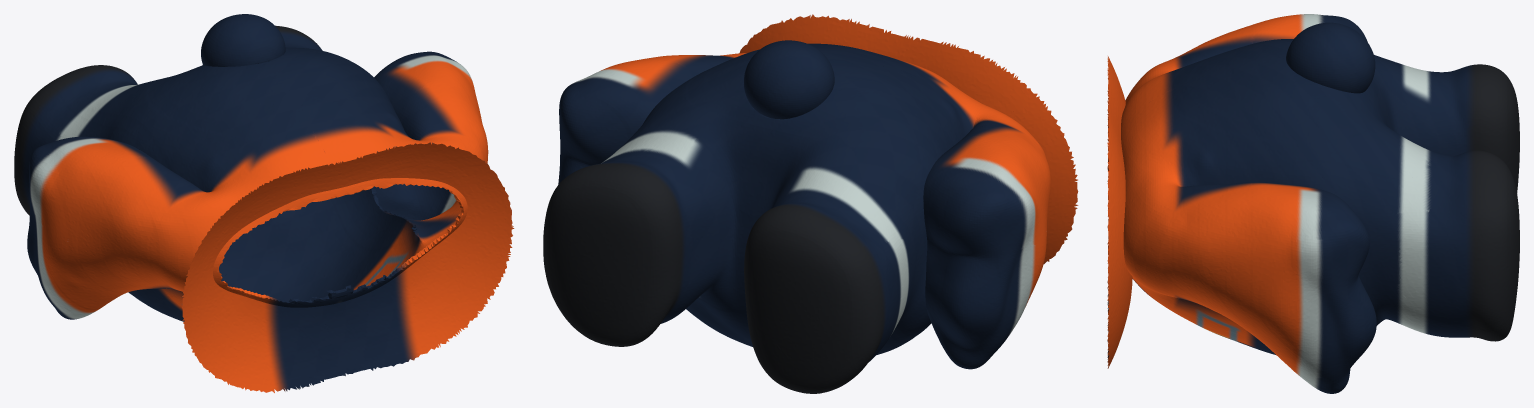
File: posukho_uniform_v2.obj
3 views of the same model, side by side, from view 1: azimuth 30°, elevation 25°; view 2: azimuth 150°, elevation 25°; view 3: azimuth 270°, elevation 25° (orthographic). The views are drawn at different scales.
Visible parts, largest first — view 1: posukho_tailored_uniform; view 2: posukho_tailored_uniform; view 3: posukho_tailored_uniform.
Part boxes in pixels (box(x1,y1,x2,y2)): posukho_tailored_uniform: box(14, 14, 514, 393); posukho_tailored_uniform: box(543, 14, 1078, 393); posukho_tailored_uniform: box(1107, 14, 1519, 393).
Size of the model in its own units: 0.5231 by 0.337 by 0.4025.
1 material, 1 textured.
